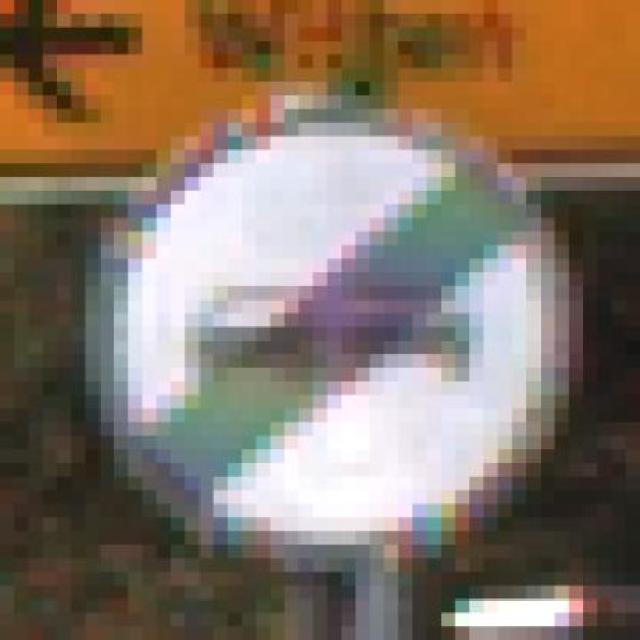No_Over_Taking: (57, 54, 569, 586)
